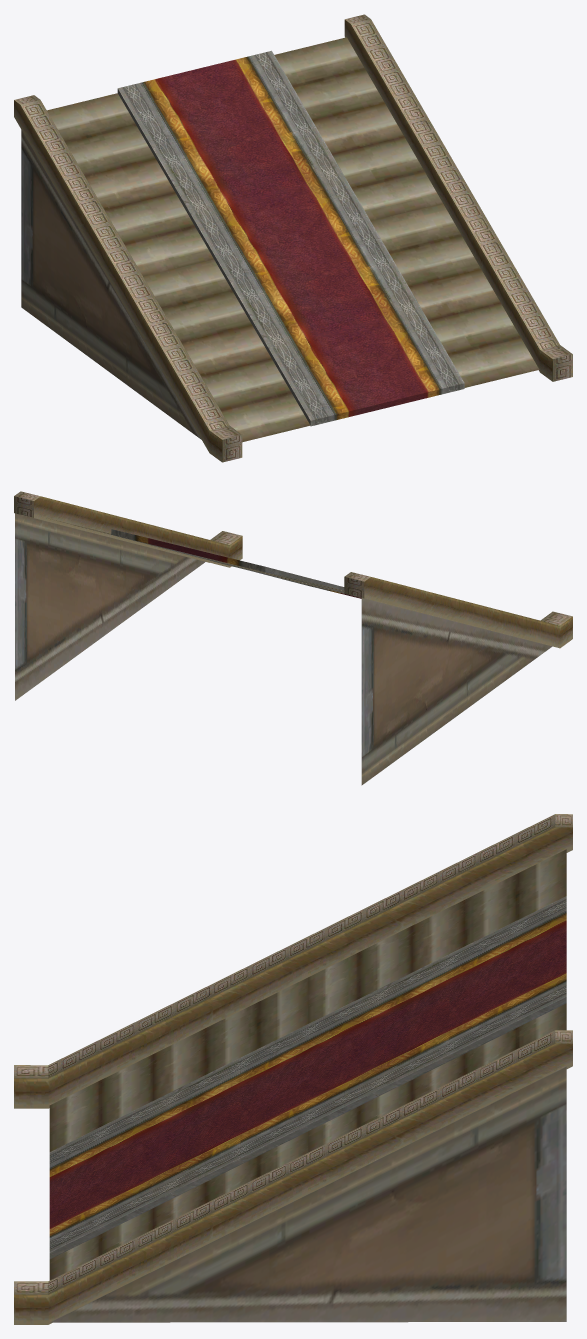
The model's file is environment_common_shijie_005_a.FBX.
The picture shows the model from 3 angles, top to bottom: view 1: azimuth 30°, elevation 25°; view 2: azimuth 150°, elevation 25°; view 3: azimuth 270°, elevation 25°; orthographic projection. The views are drawn at different scales.
Visible parts, largest first — view 1: environment_common_shijie_005_a, environment_common_shijie_005_c, environment_common_shijie_005_b; view 2: environment_common_shijie_005_b, environment_common_shijie_005_a, environment_common_shijie_005_c; view 3: environment_common_shijie_005_a, environment_common_shijie_005_b, environment_common_shijie_005_c.
Boxes of the visible parts, x1,y1,x2,y2 form: environment_common_shijie_005_a: [14, 14, 572, 462]; environment_common_shijie_005_c: [117, 50, 464, 426]; environment_common_shijie_005_b: [21, 130, 201, 439]; environment_common_shijie_005_b: [15, 513, 552, 785]; environment_common_shijie_005_a: [14, 491, 572, 648]; environment_common_shijie_005_c: [111, 529, 361, 598]; environment_common_shijie_005_a: [14, 814, 572, 1324]; environment_common_shijie_005_b: [50, 1066, 566, 1322]; environment_common_shijie_005_c: [49, 896, 566, 1259].
Bounding box in the file's own units: 776 × 442 × 796.
